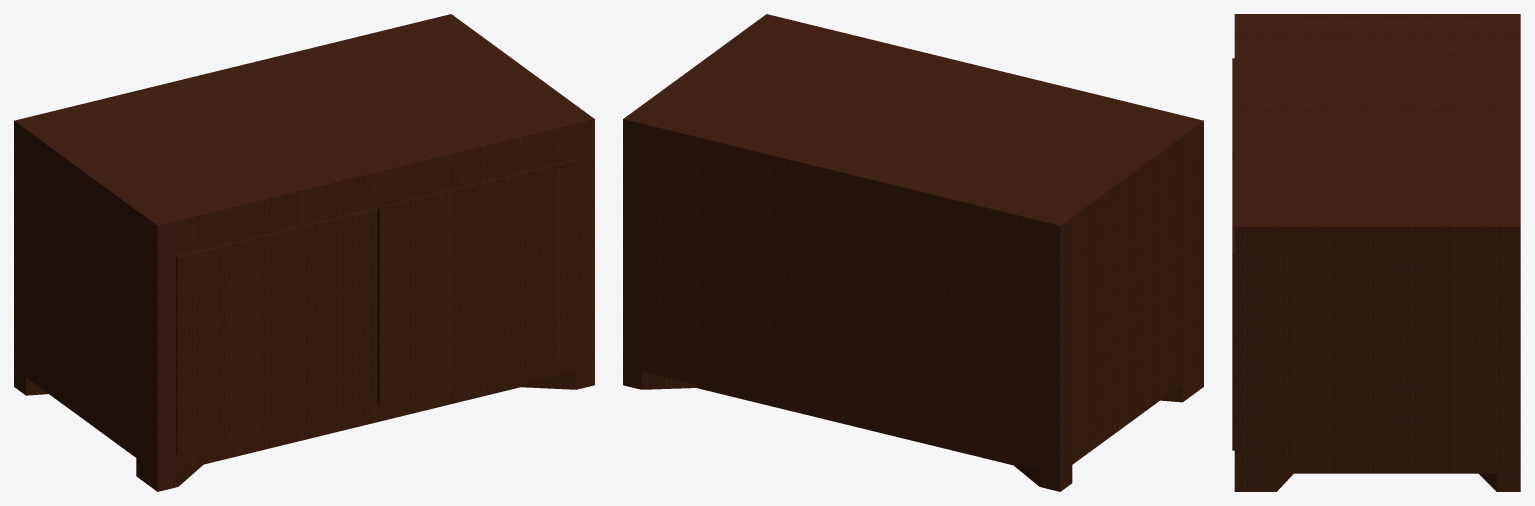
File: Badschrank.fbx
3 views of the same model, side by side, from view 1: azimuth 30°, elevation 25°; view 2: azimuth 150°, elevation 25°; view 3: azimuth 270°, elevation 25° (orthographic).
Parts seen in each view (by area): view 1: Cube; view 2: Cube; view 3: Cube.
Boxes of the visible parts, x1,y1,x2,y2 form: Cube: [14, 14, 594, 491]; Cube: [623, 14, 1203, 491]; Cube: [1232, 14, 1520, 491].
Size of the model in its own units: 224 by 130 by 128.
1 material, 1 textured.
